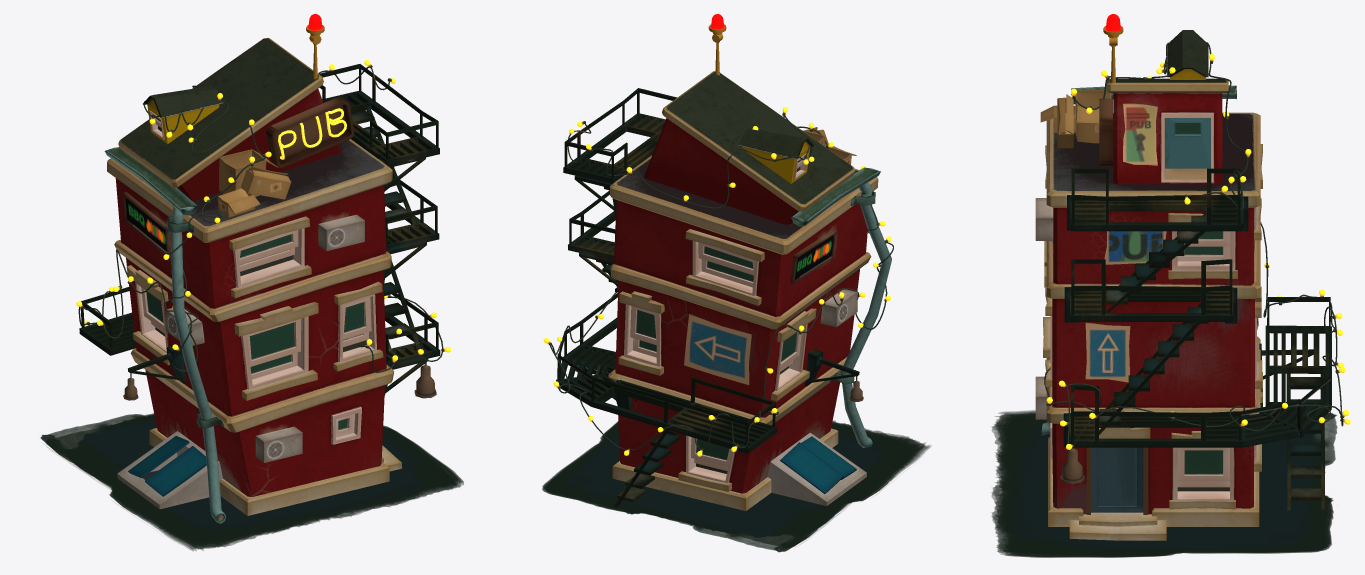
File: cartoon_pub.glb
3 renders of one model, left to right at view 1: azimuth 30°, elevation 25°; view 2: azimuth 150°, elevation 25°; view 3: azimuth 270°, elevation 25°, orthographic. The views are drawn at different scales.
Visible parts, largest first — view 1: building_low, pCube1_low, pipe_low, fundament_low, lightbox_low, stairs_04_low, roof_low, lights_low, ground_low, stairs_01_low, window_upper_01_low, pipe_up_low (+22 smaller); view 2: building_low, pCube1_low, stairs_01_low, paper_03_low, pipe_low, stairs_04_low, fundament_low, lights_low, roof_low, ground_low, stairs_02_low, door_01_low (+15 smaller); view 3: building_low, pCube1_low, stairs_01_low, stairs_04_low, stairs_03_low, window_upper_08_low, fundament_low, lights_low, stairs_02_low, paper_04_low, pub_door_low, menu_low (+21 smaller).
Part boxes in pixels (x1,y1,x2,y2): building_low: (107, 38, 394, 496); pCube1_low: (40, 413, 463, 551); pipe_low: (170, 207, 226, 523); fundament_low: (149, 428, 389, 515); lightbox_low: (266, 97, 354, 167); stairs_04_low: (325, 91, 439, 166); roof_low: (143, 85, 223, 144); lights_low: (78, 66, 443, 372); ground_low: (117, 431, 222, 509); stairs_01_low: (79, 312, 440, 366); window_upper_01_low: (247, 319, 301, 366); pipe_up_low: (104, 147, 198, 215); building_low: (608, 71, 878, 493); pCube1_low: (542, 420, 930, 552); stairs_01_low: (557, 317, 777, 453); paper_03_low: (684, 314, 751, 385); pipe_low: (840, 182, 891, 447); stairs_04_low: (563, 113, 665, 183); fundament_low: (612, 428, 838, 510); lights_low: (549, 114, 893, 451); roof_low: (738, 128, 814, 183); ground_low: (767, 433, 866, 505); stairs_02_low: (558, 293, 775, 447); door_01_low: (780, 442, 843, 493); building_low: (1046, 78, 1260, 514); pCube1_low: (991, 410, 1337, 557); stairs_01_low: (1069, 325, 1331, 447); stairs_04_low: (1070, 196, 1241, 231); stairs_03_low: (1070, 287, 1233, 321); window_upper_08_low: (1091, 447, 1143, 512); fundament_low: (1048, 437, 1259, 526); lights_low: (1044, 42, 1343, 449); stairs_02_low: (1071, 297, 1330, 441); paper_04_low: (1085, 322, 1130, 382); pub_door_low: (1165, 118, 1210, 168); menu_low: (1123, 103, 1157, 165).
Size of the model in its own units: 17.16 by 24.64 by 16.56.
2 materials, 2 textured.
